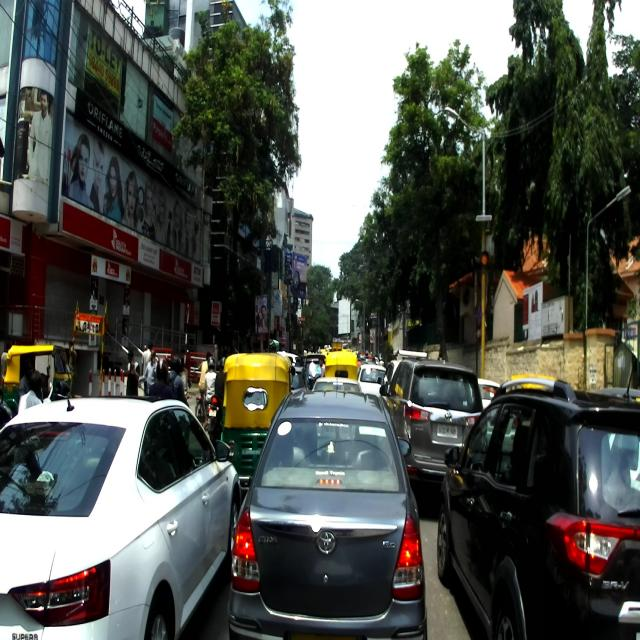Car_Honda: (437, 359, 640, 640)
Car_Skoda: (0, 396, 240, 639)
Car_Toyota: (226, 356, 428, 640), (378, 356, 484, 488)
autorickshaw: (220, 352, 296, 490), (2, 344, 72, 418)
